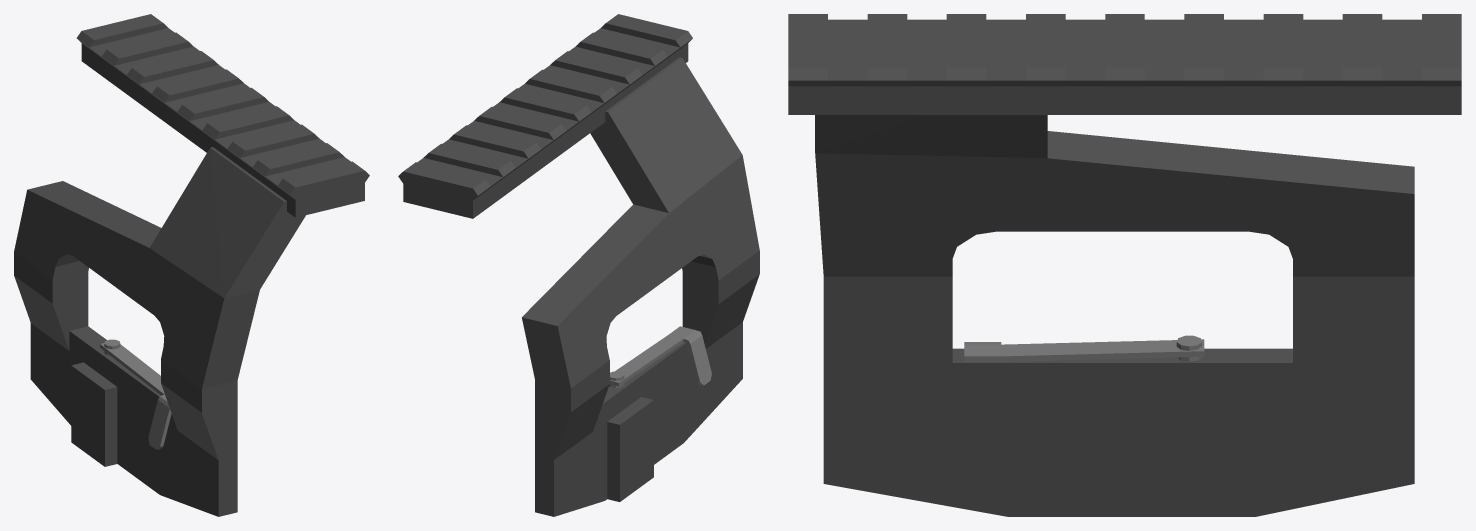
The model's file is AK_Mount.fbx.
3 views of the same model, side by side, from view 1: azimuth 30°, elevation 25°; view 2: azimuth 150°, elevation 25°; view 3: azimuth 270°, elevation 25° (orthographic). The views are drawn at different scales.
Visible parts, largest first — view 1: AK_Mount; view 2: AK_Mount; view 3: AK_Mount.
Part boxes in pixels (x1,y1,x2,y2): AK_Mount: (14,14,369,516); AK_Mount: (398,14,759,516); AK_Mount: (788,14,1461,516).
Size of the model in its own units: 4.62 by 9.64 by 10.91.
Materials: 1 (1 with a texture image).
